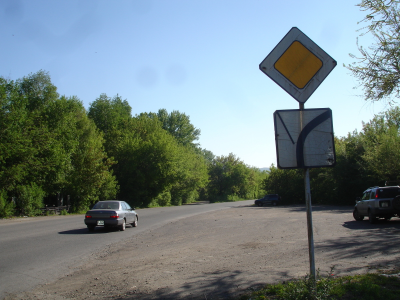priority_road: (267, 32, 333, 97)
